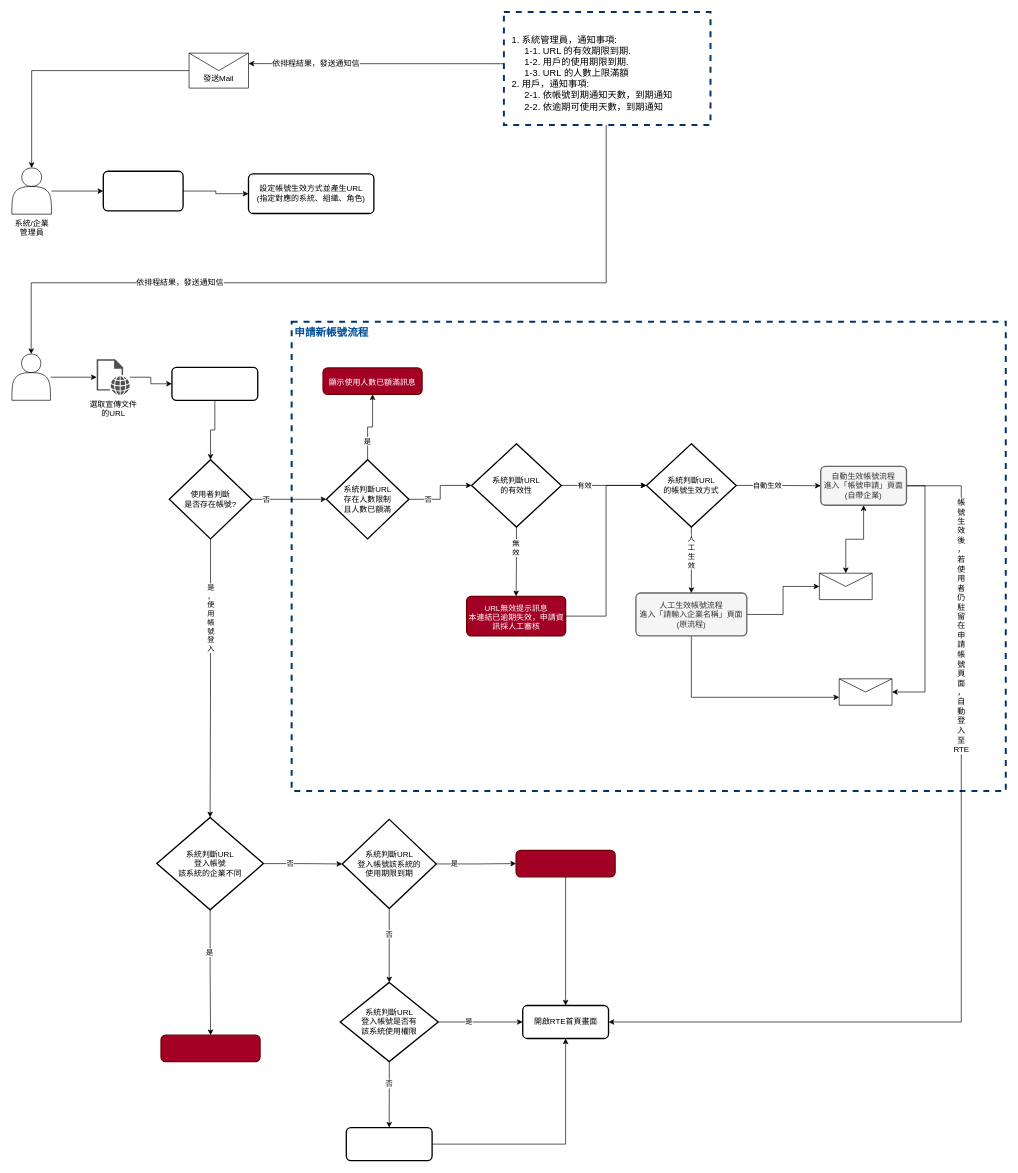
The diagram is 1018 pixels wide and 1173 high, and some of its shapes have lost their labels. Each missing label, with the box of its shape:
使用者: (11, 353, 50, 400)
依帳號產生該系統權限: (345, 1127, 432, 1161)
提示使用期限已過期訊息: (515, 849, 615, 877)
登入 Site 設定頁面: (102, 170, 183, 211)
發送Mail有效性驗證碼，由使用者回填驗證碼: (819, 573, 872, 600)
發送帳號 生效完成通知信: (839, 678, 892, 705)
系統排程: (503, 11, 711, 126)
進入RTE登入畫面: (171, 366, 258, 401)
顯示無該企業帳號訊息: (160, 1034, 260, 1062)
